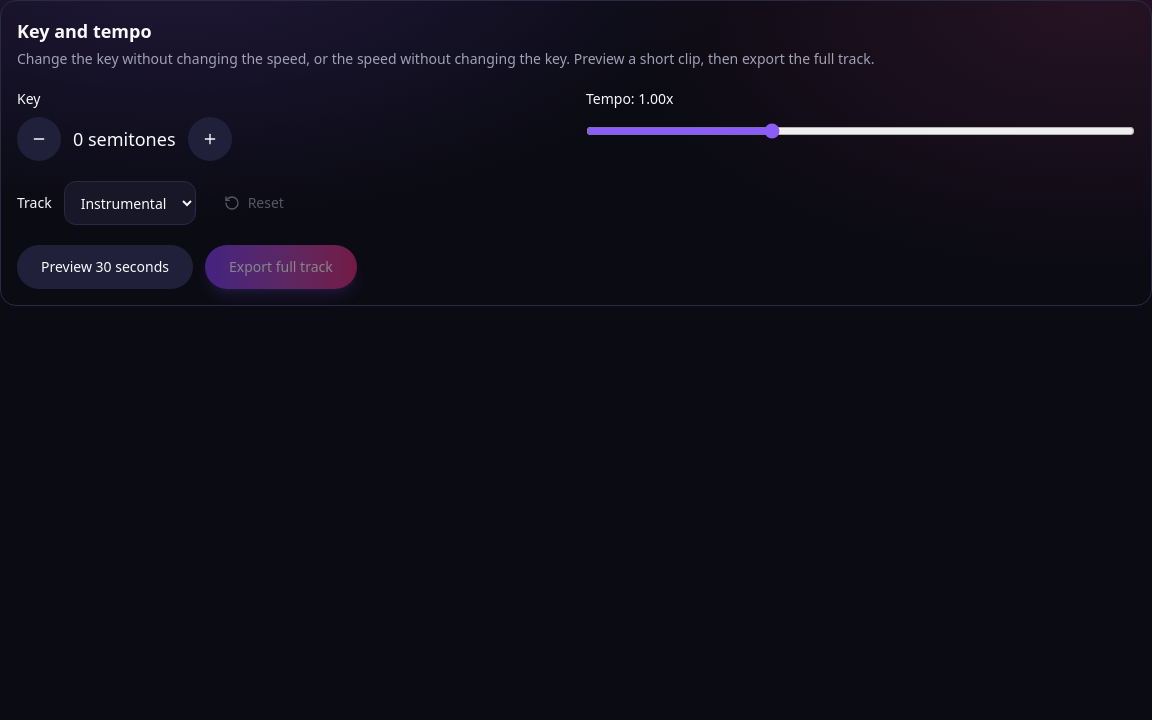
Test case: KeyTempoPanel › adds finished exports to the list only once
Step 1. Click the button named "Raise the key" → {"x": 210, "y": 139}, box [188,117,232,161]
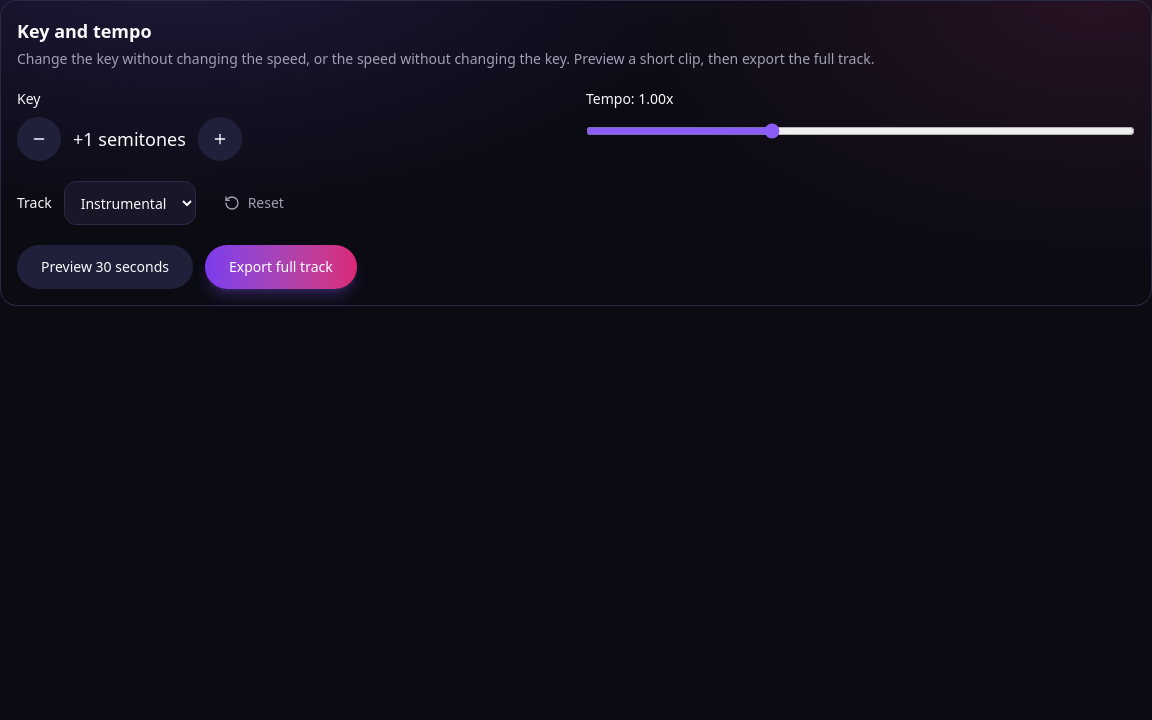
Step 2. Click the button named "Raise the key" → {"x": 220, "y": 139}, box [198,117,242,161]
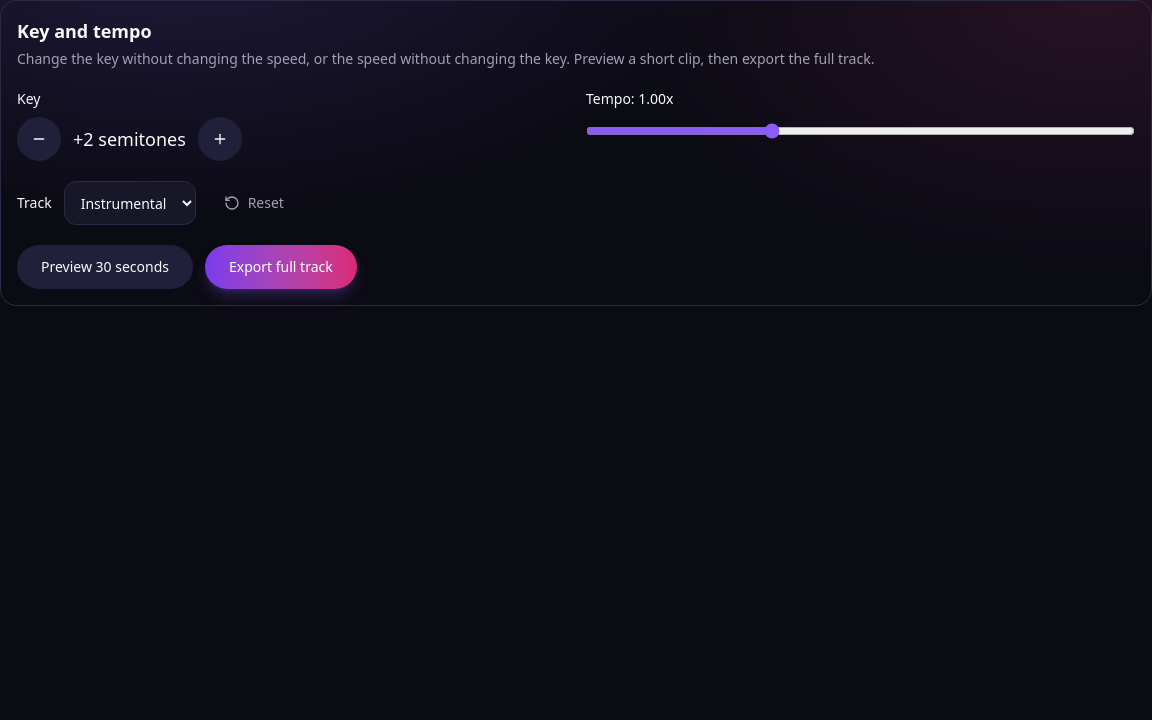
Step 3. Click the button "Export full track" → {"x": 281, "y": 267}, box [205,245,357,289]
Wait 6000 ms
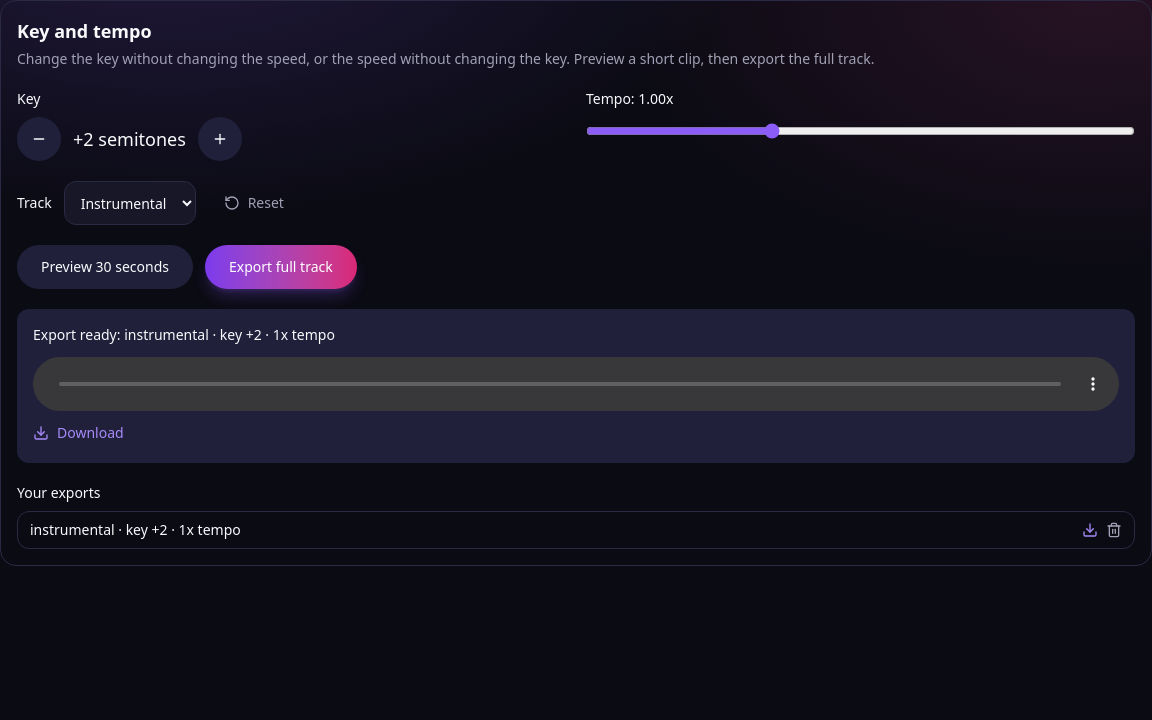
Result: the number of links named "Download instrumental" is 1 at [1082,522,1098,538]
